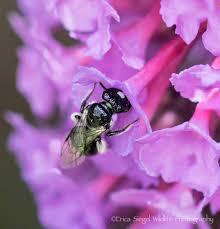Braunsapis: (51, 73, 140, 172)
